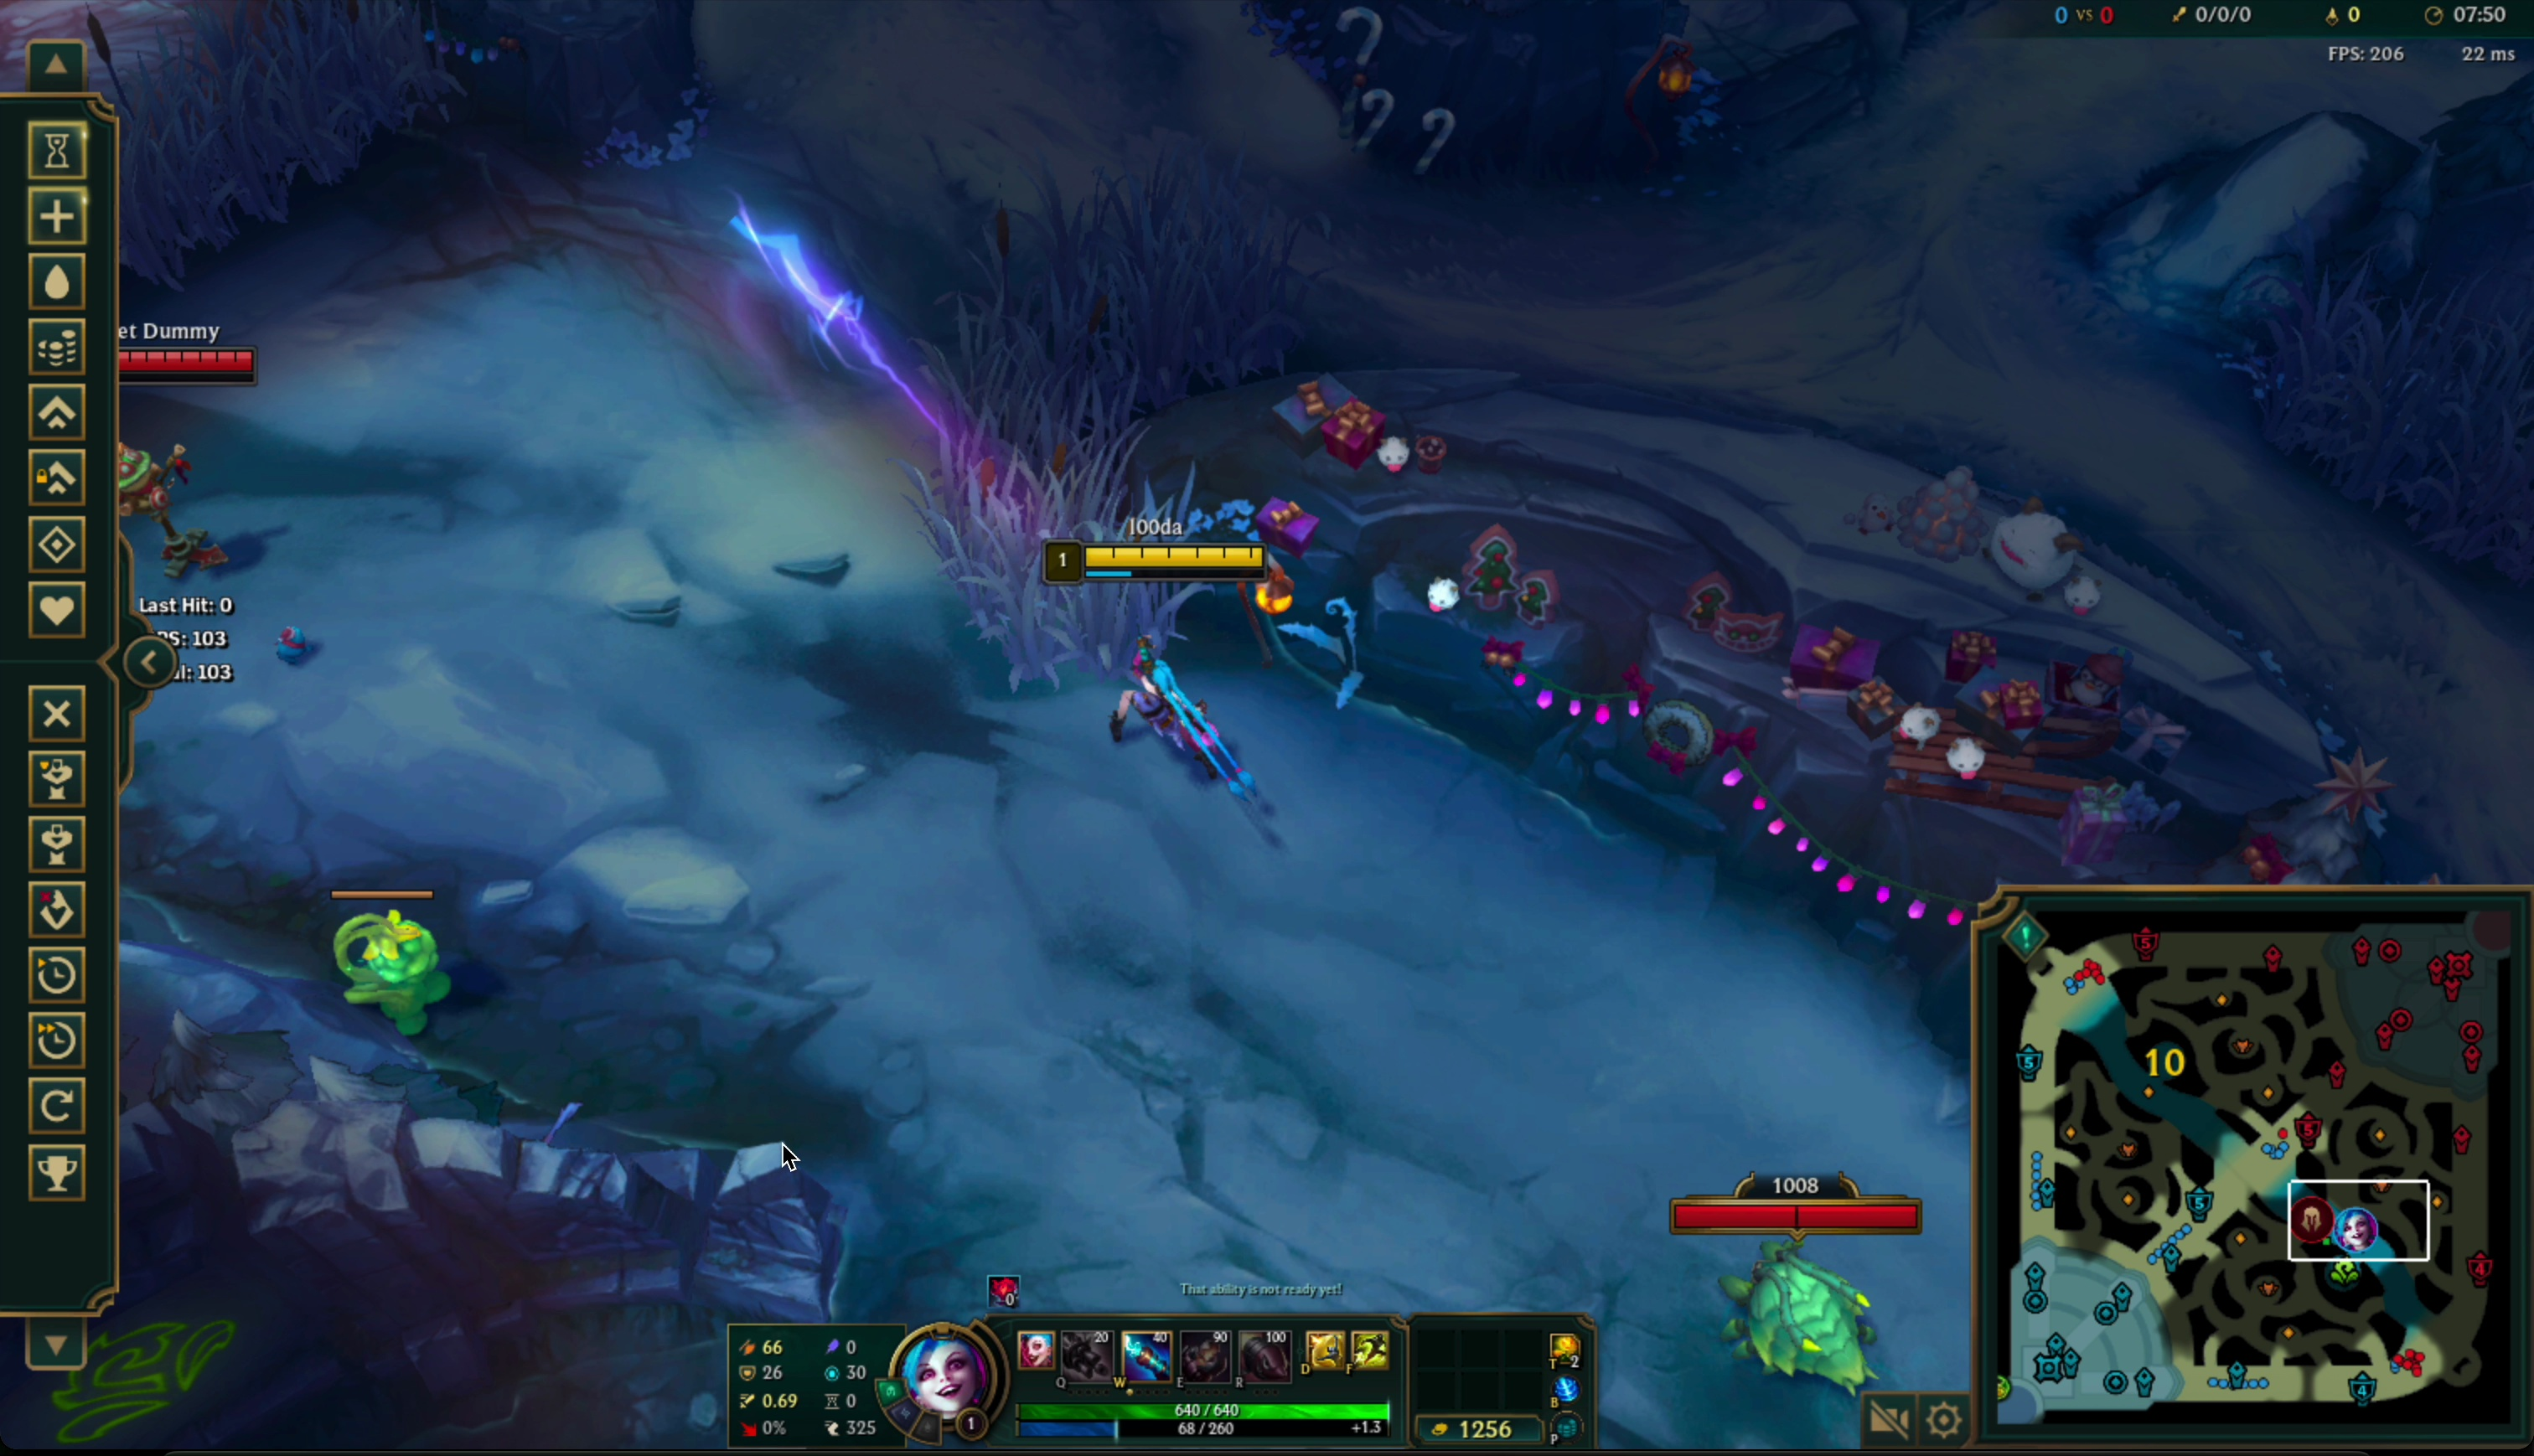JINX_W_PROJECTILE: (714, 231, 1081, 525)
